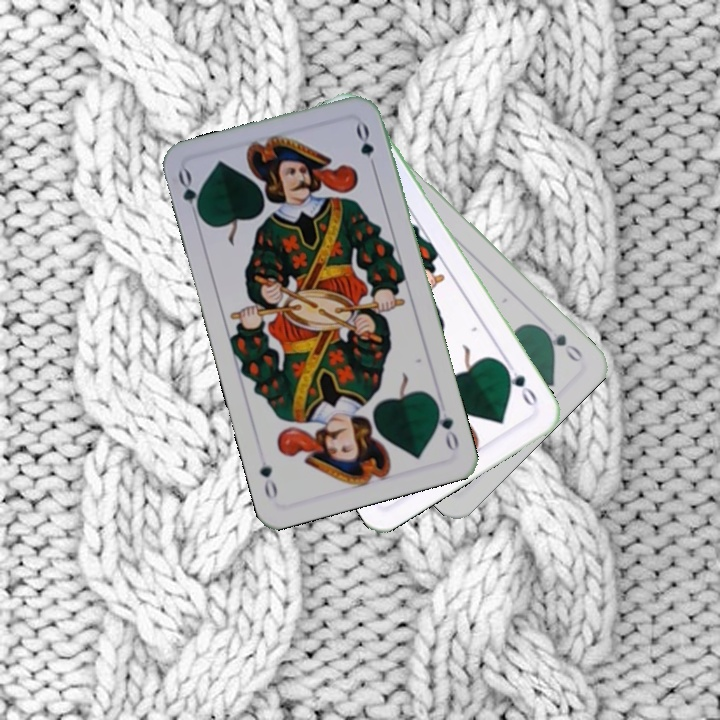GO: (500, 358, 540, 412), (536, 323, 586, 365), (174, 165, 206, 224), (431, 398, 462, 454)
